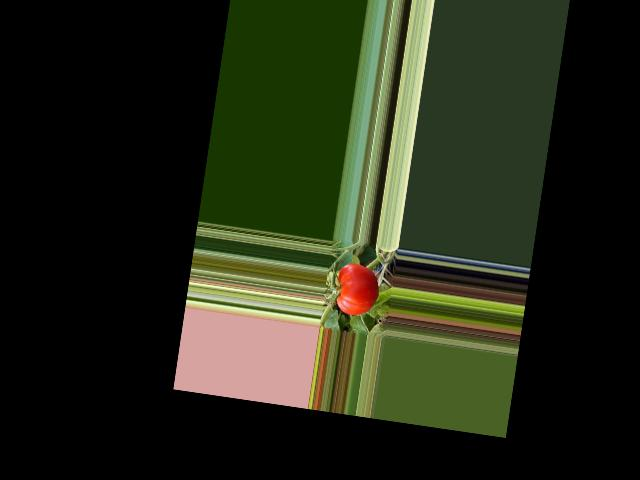tomato: (333, 261, 382, 318)
